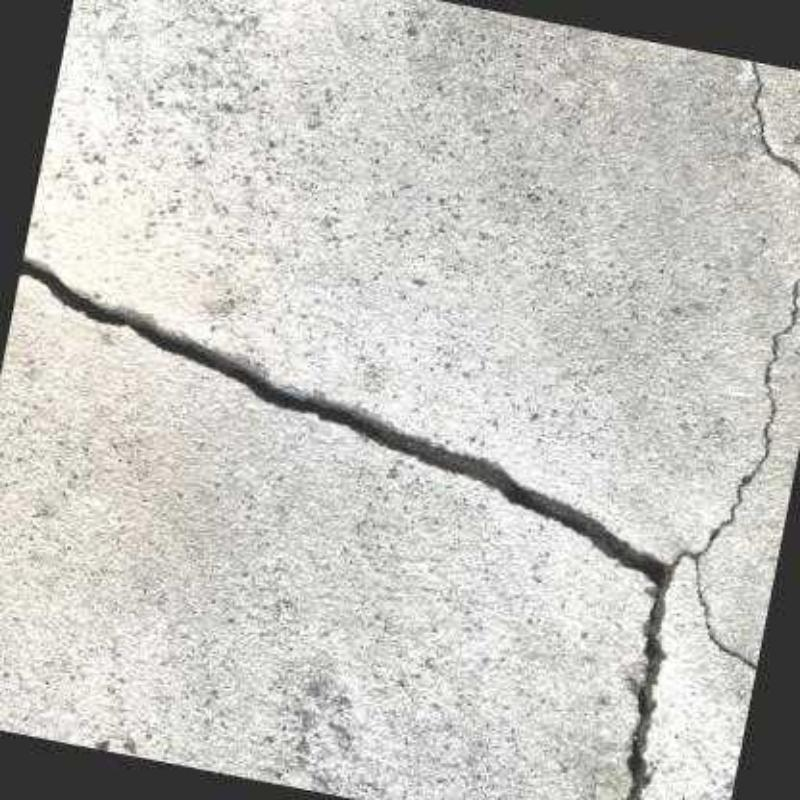pothole: (16, 254, 675, 800), (680, 58, 800, 676)
